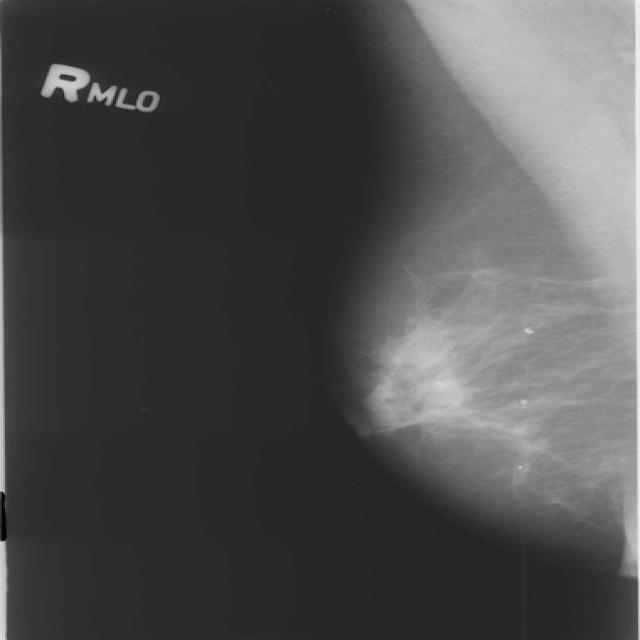tumour: (416, 373, 472, 416)
